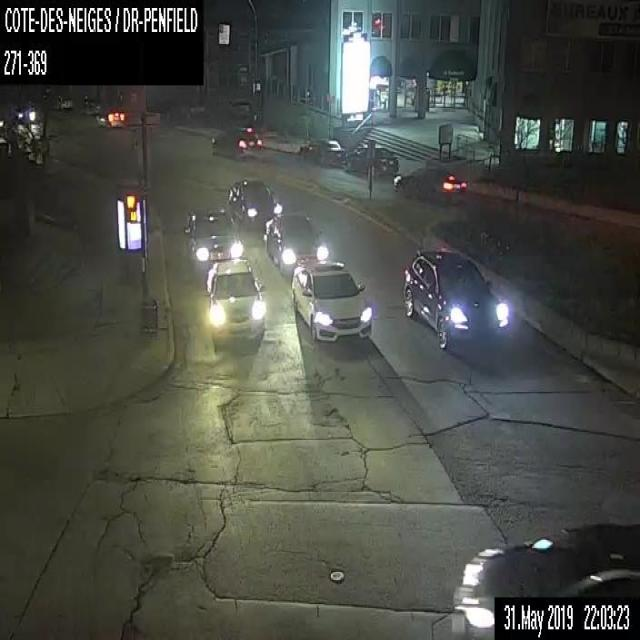vehicle: (458, 520, 639, 639), (402, 248, 504, 349), (290, 257, 373, 343), (492, 593, 639, 639), (207, 258, 266, 342), (184, 203, 244, 272), (266, 212, 326, 276), (228, 178, 280, 229), (393, 167, 466, 200), (346, 136, 398, 175), (211, 124, 260, 156), (300, 136, 344, 166), (95, 105, 124, 128), (15, 103, 36, 123)
